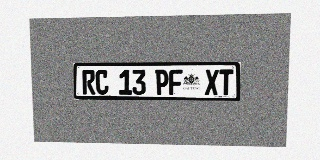1: (119, 70, 132, 95)
3: (132, 70, 146, 95)
C: (95, 70, 109, 95)
F: (169, 69, 182, 95)
P: (155, 69, 168, 95)
R: (82, 70, 95, 94)
T: (219, 69, 233, 95)
X: (205, 69, 219, 95)
